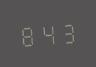eight: (18, 22, 36, 47)
four: (38, 20, 56, 46)
three: (57, 19, 75, 45)
